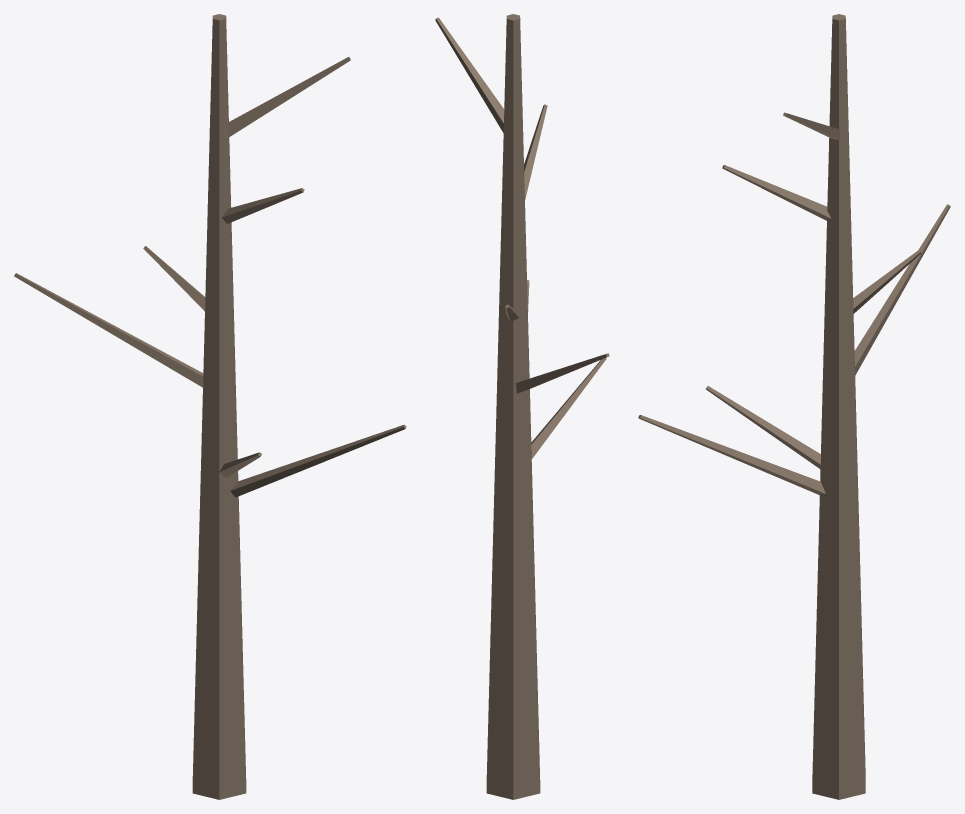
The model's file is node_tree_swamp_0.glb.
The picture shows the model from 3 angles, left to right: view 1: azimuth 30°, elevation 25°; view 2: azimuth 150°, elevation 25°; view 3: azimuth 270°, elevation 25°; orthographic projection.
Visible parts, largest first — view 1: node_tree_swamp_0; view 2: node_tree_swamp_0; view 3: node_tree_swamp_0.
Boxes of the visible parts, <box> form: node_tree_swamp_0: <box>14,14,406,799</box>; node_tree_swamp_0: <box>435,14,609,799</box>; node_tree_swamp_0: <box>638,14,950,799</box>.
Bounding box in the file's own units: 1.91 × 5.5 × 2.02.
